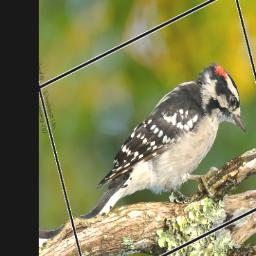Woodpecker: (59, 51, 256, 255)
